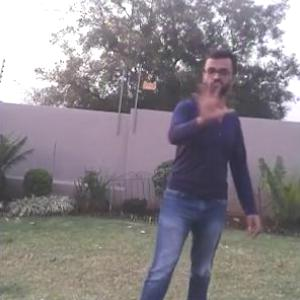follow_hand: (191, 76, 233, 121)
